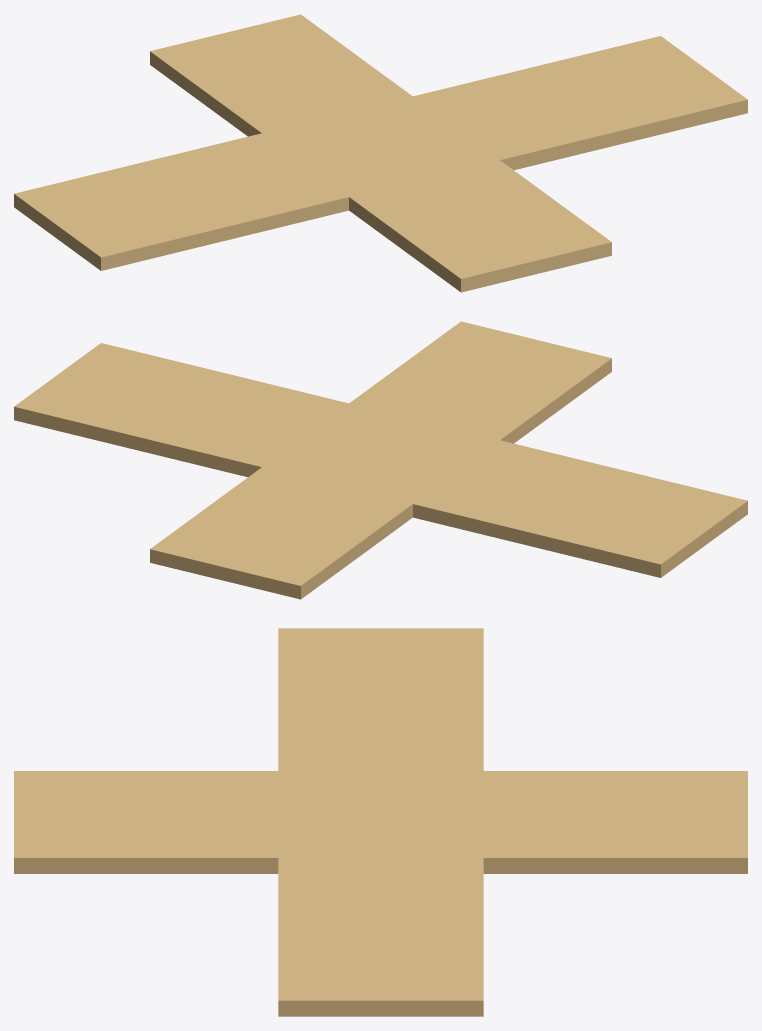
The model's file is Garden-paths.glb.
The picture shows the model from 3 angles, top to bottom: view 1: azimuth 30°, elevation 25°; view 2: azimuth 150°, elevation 25°; view 3: azimuth 270°, elevation 25°; orthographic projection. The views are drawn at different scales.
Parts seen in each view (by area): view 1: garden-paths-static-path-stone; view 2: garden-paths-static-path-stone; view 3: garden-paths-static-path-stone.
Boxes of the visible parts, x1,y1,x2,y2 form: garden-paths-static-path-stone: (14, 14, 747, 292); garden-paths-static-path-stone: (14, 321, 747, 599); garden-paths-static-path-stone: (14, 628, 747, 1016).
Size of the model in its own units: 6 by 0.12 by 5.
